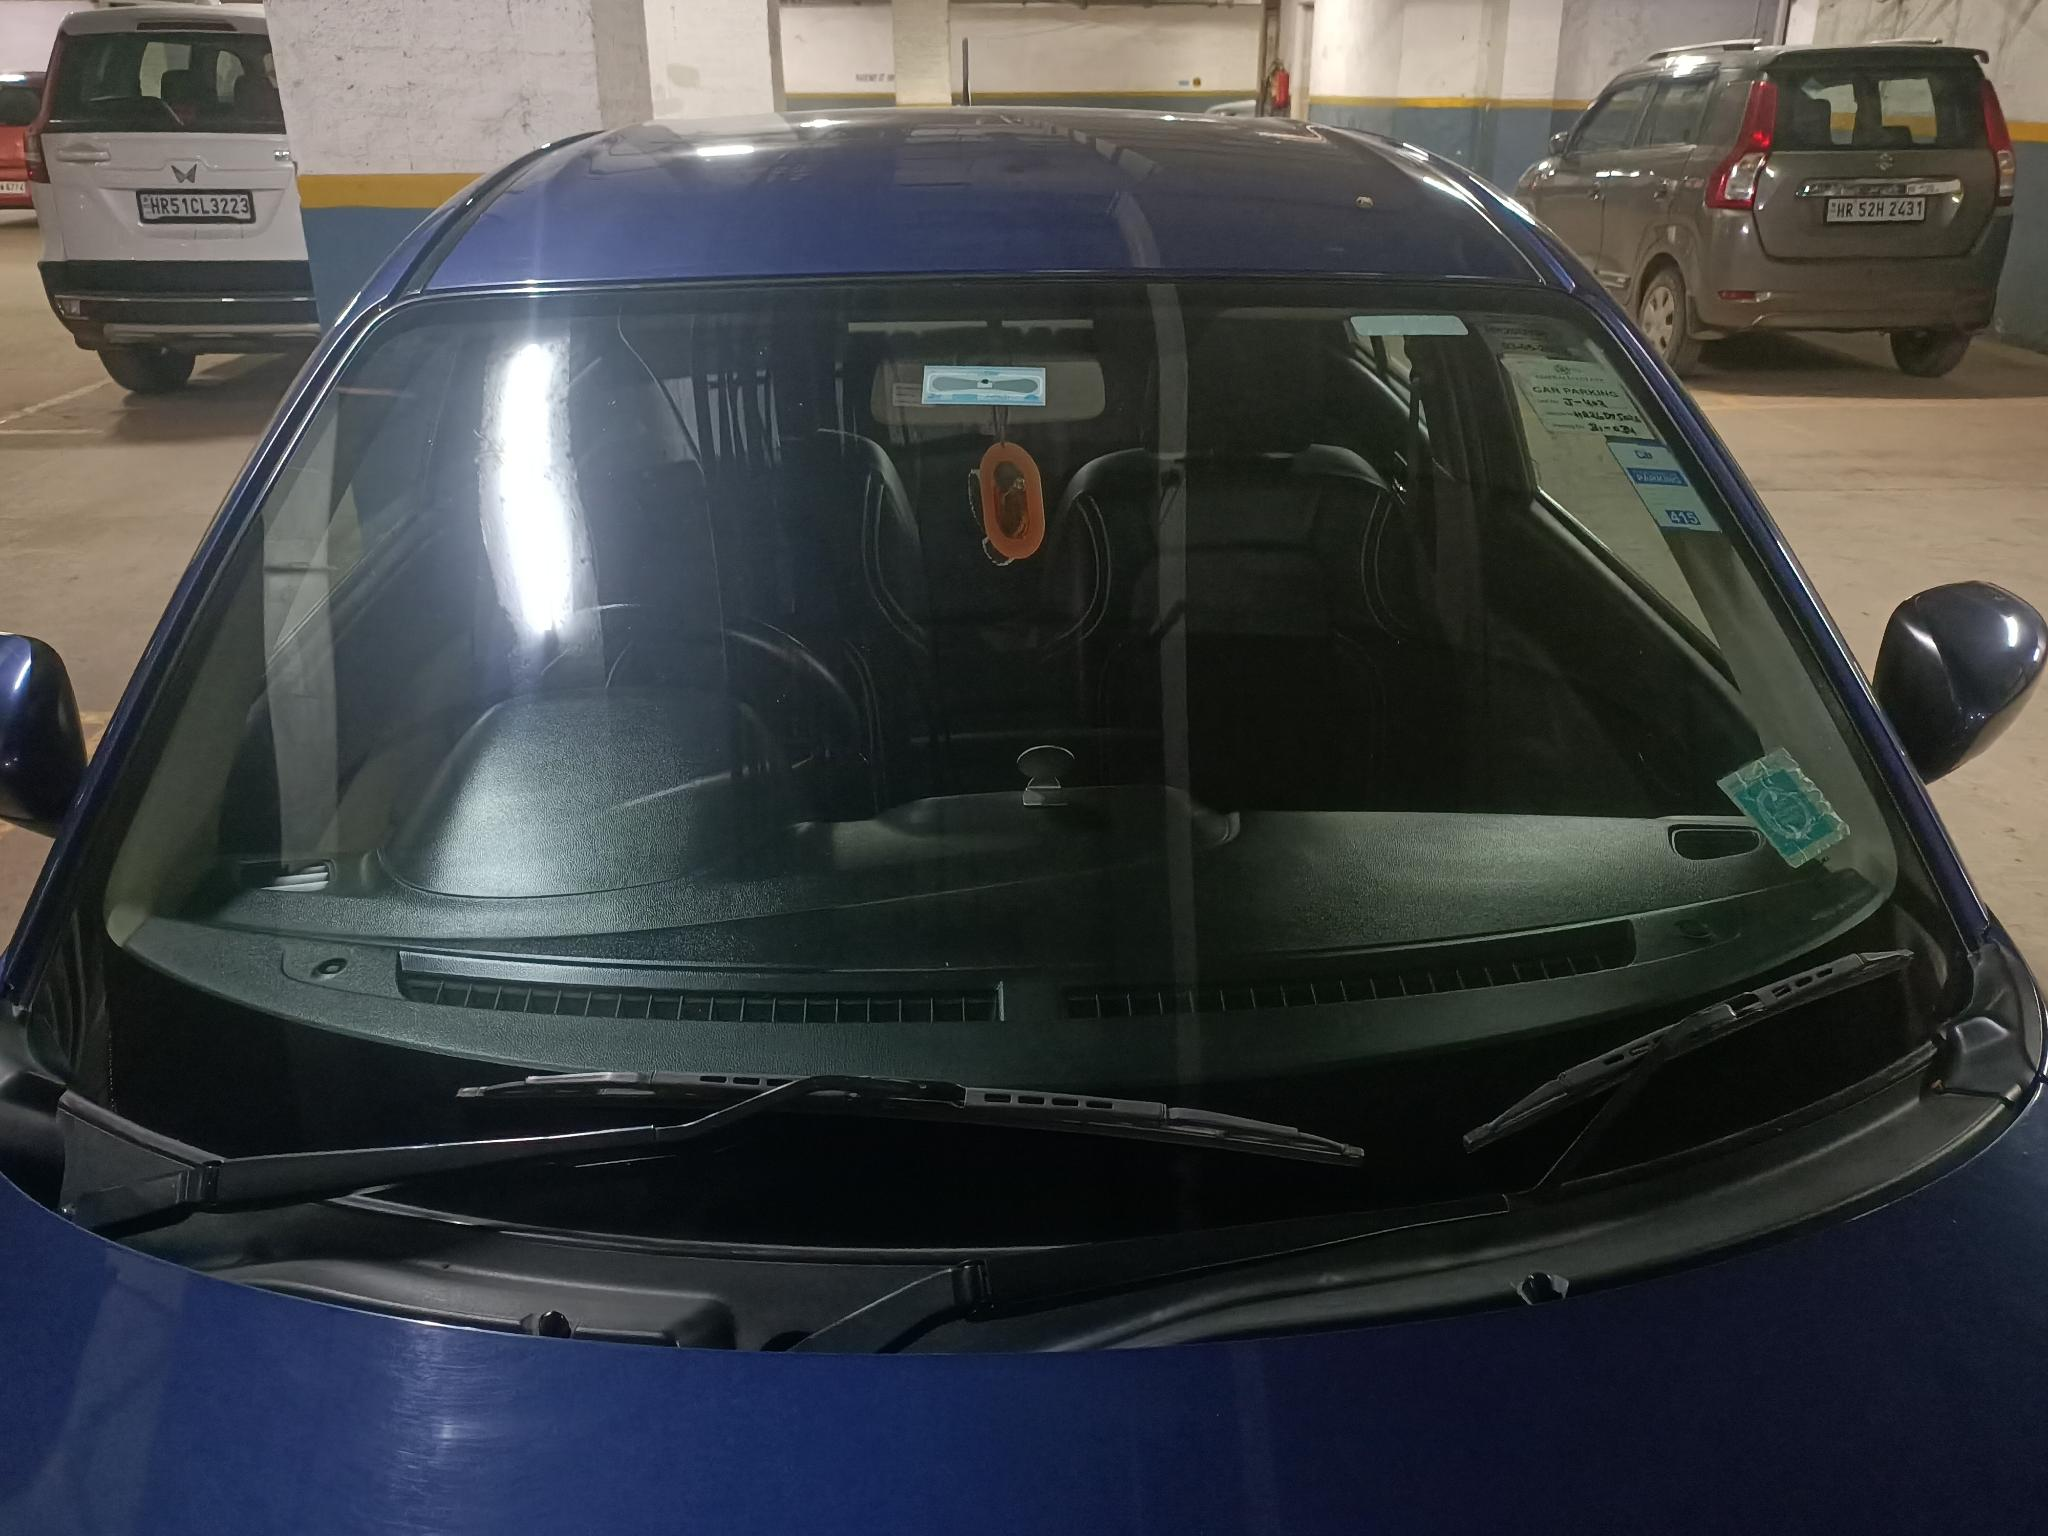FastTag: (922, 366, 1048, 418)
not a FastTag: (1716, 744, 1848, 871), (1498, 337, 1651, 444), (1605, 442, 1730, 542), (1355, 310, 1469, 347)
